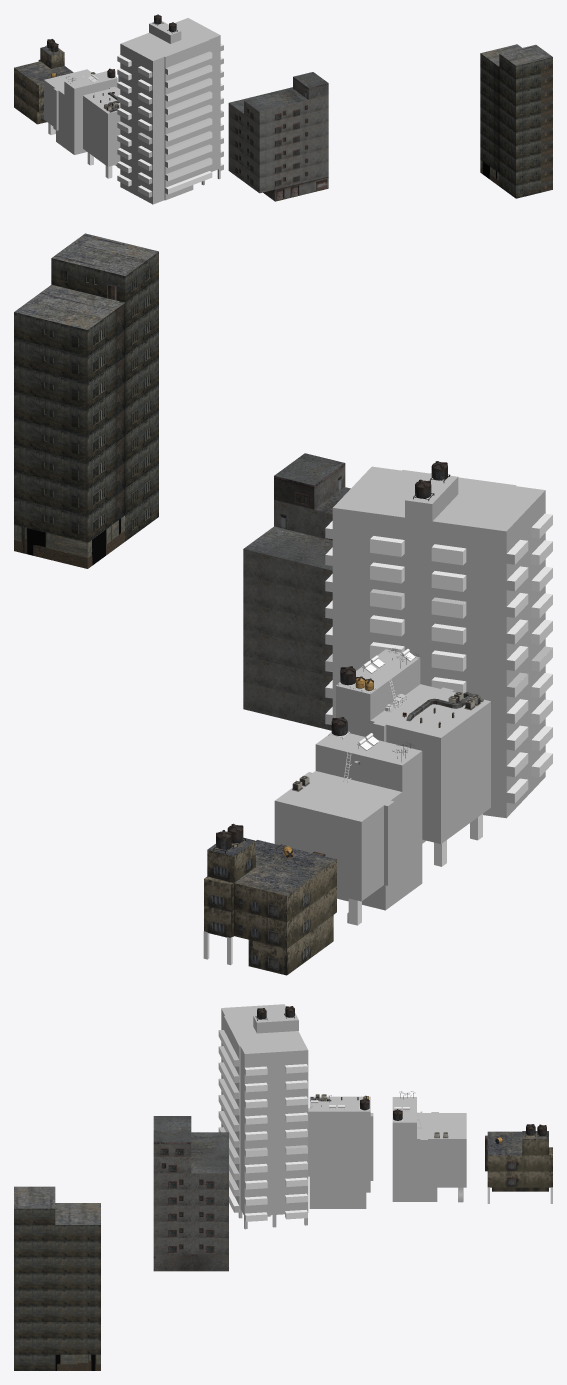
File: Buildings Set 02.fbx
3 renders of one model, top to bottom at view 1: azimuth 30°, elevation 25°; view 2: azimuth 150°, elevation 25°; view 3: azimuth 270°, elevation 25°, orthographic. The views are drawn at different scales.
Parts seen in each view (by area): view 1: MainTall, Tower02, Tower10, BlueTall_04, BlueTall_03, LowendTall_02, Cube, Cube (7), Cube (4), Cube (5), Cube (6), Cube (8) (+4 smaller); view 2: Tower10, MainTall, Tower02, BlueTall_04, BlueTall_03, LowendTall_02; view 3: Tower10, MainTall, Tower02, BlueTall_03, BlueTall_04, LowendTall_02.
Part boxes in pixels (x1,y1,x2,y2): MainTall: (117, 18, 223, 204); Tower02: (228, 72, 328, 201); Tower10: (480, 44, 552, 198); BlueTall_04: (44, 69, 117, 154); BlueTall_03: (83, 75, 120, 166); LowendTall_02: (14, 46, 73, 124); Cube: (165, 171, 212, 194); Cube (7): (168, 79, 212, 101); Cube (4): (168, 119, 212, 141); Cube (5): (168, 106, 212, 127); Cube (6): (168, 93, 212, 114); Cube (8): (168, 66, 212, 88); Tower10: (14, 233, 158, 568); MainTall: (325, 466, 552, 818); Tower02: (243, 453, 350, 730); BlueTall_04: (274, 732, 422, 923); BlueTall_03: (336, 649, 490, 843); LowendTall_02: (204, 837, 336, 975); Tower10: (14, 1186, 100, 1370); MainTall: (219, 1004, 308, 1229); Tower02: (153, 1116, 228, 1271); BlueTall_03: (308, 1096, 373, 1208); BlueTall_04: (392, 1097, 466, 1202); LowendTall_02: (485, 1131, 552, 1191).
Size of the model in its own units: 131 by 61.86 by 154.
